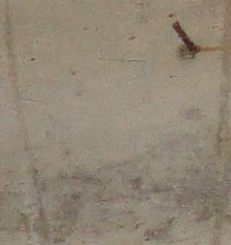Exposed reinforcement: (171, 20, 197, 52)
